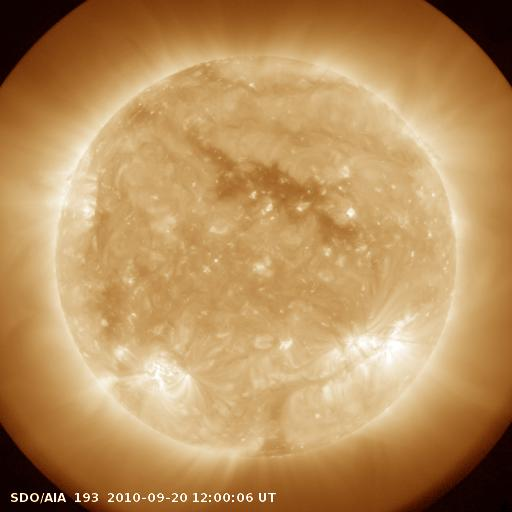coronal_hole: (193, 138, 354, 240)
